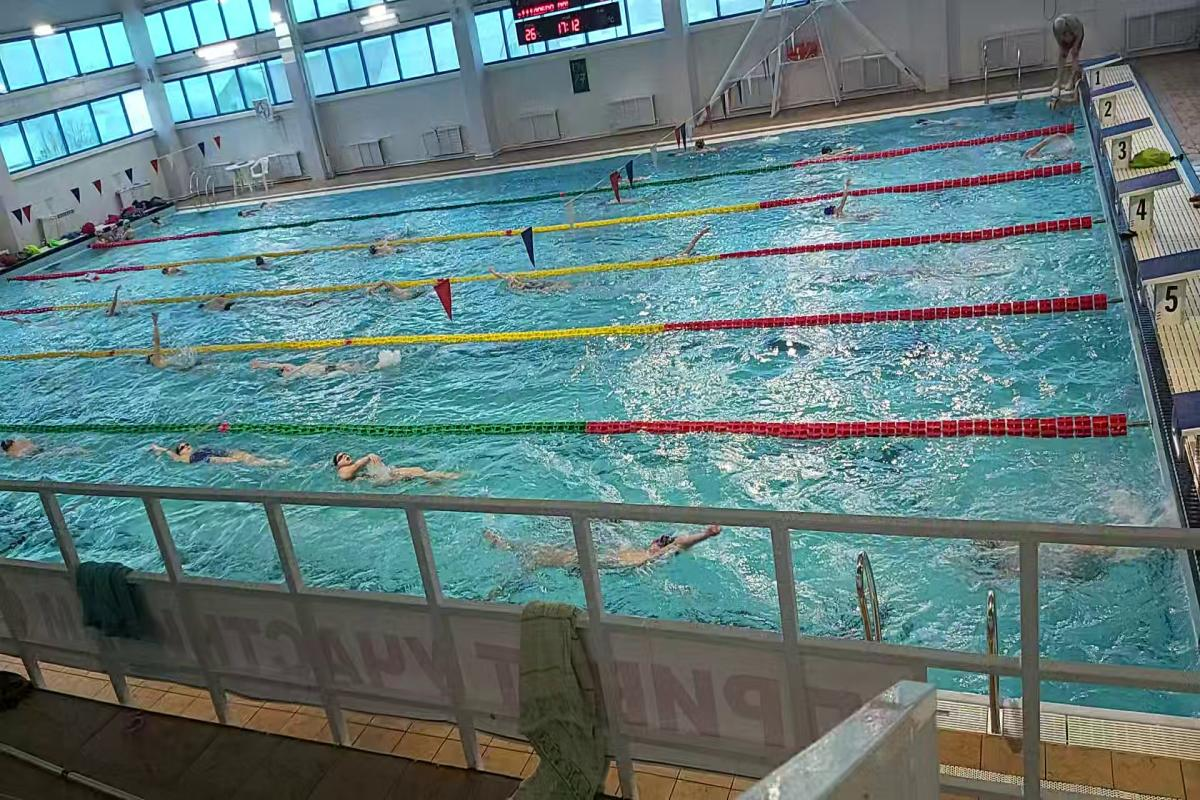swimmer: (493, 525, 728, 575), (144, 440, 290, 481), (247, 346, 377, 384), (332, 450, 468, 483), (484, 259, 574, 299), (3, 434, 108, 464), (133, 320, 188, 376), (646, 224, 716, 259), (817, 190, 872, 224), (188, 292, 252, 320), (363, 232, 418, 261), (373, 277, 428, 305), (253, 250, 287, 274), (155, 261, 197, 278)
